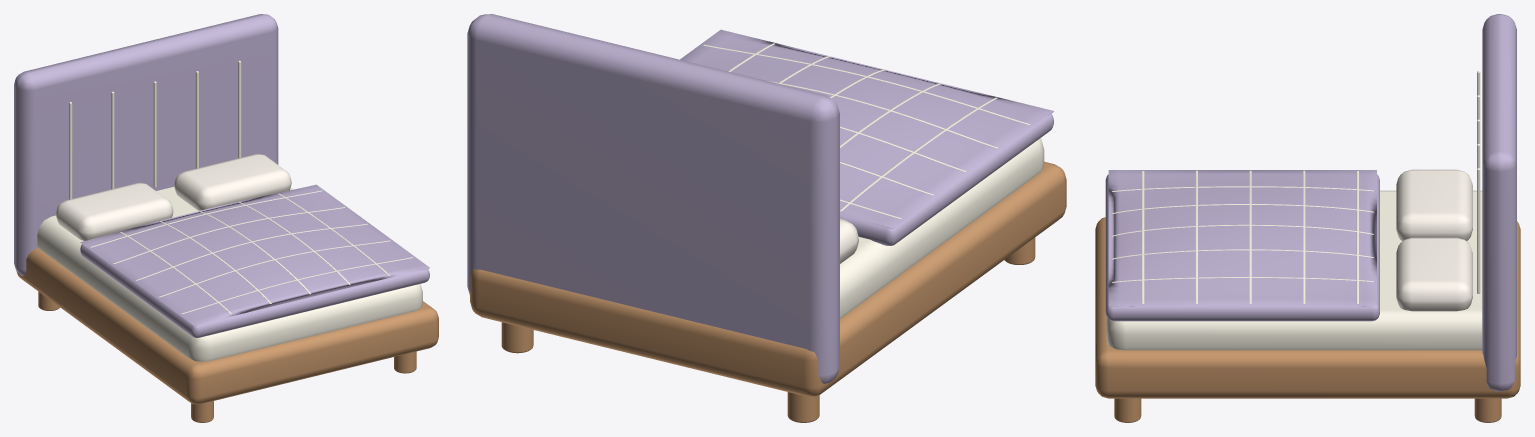
The model's file is bedroomBedLilac.glb.
The picture shows the model from 3 angles, left to right: view 1: azimuth 30°, elevation 25°; view 2: azimuth 150°, elevation 25°; view 3: azimuth 270°, elevation 25°; orthographic projection. The views are drawn at different scales.
Visible parts, largest first — view 1: Upholstered headboard, Soft quilt cloth, Oak bed frame, Mattress, Quilt padded hem, Bed pillow, Bed pillow.001, Oak bed leg, Oak bed leg.002, Headboard channel.002; view 2: Upholstered headboard, Oak bed frame, Soft quilt cloth, Mattress, Quilt padded hem, Oak bed leg.001, Oak bed leg.003, Quilt stitching.005, Bed pillow; view 3: Soft quilt cloth, Oak bed frame, Mattress, Upholstered headboard, Bed pillow.001, Quilt padded hem, Bed pillow, Oak bed leg.002, Oak bed leg.003, Headboard channel.004, Quilt stitching.003, Quilt stitching (+5 smaller).
Boxes of the visible parts, x1=… form: Upholstered headboard: x1=14, y1=14, x2=278, y2=275; Soft quilt cloth: x1=80, y1=184, x2=429, y2=325; Oak bed frame: x1=16, y1=248, x2=438, y2=404; Mattress: x1=37, y1=187, x2=422, y2=361; Quilt padded hem: x1=80, y1=244, x2=429, y2=337; Bed pillow: x1=56, y1=183, x2=173, y2=240; Bed pillow.001: x1=174, y1=154, x2=291, y2=210; Oak bed leg: x1=191, y1=401, x2=213, y2=422; Oak bed leg.002: x1=394, y1=351, x2=416, y2=373; Headboard channel.002: x1=153, y1=81, x2=156, y2=187; Upholstered headboard: x1=467, y1=14, x2=839, y2=383; Oak bed frame: x1=470, y1=161, x2=1066, y2=396; Soft quilt cloth: x1=680, y1=29, x2=1053, y2=228; Mattress: x1=840, y1=138, x2=1044, y2=318; Quilt padded hem: x1=840, y1=114, x2=1053, y2=245; Oak bed leg.001: x1=787, y1=392, x2=819, y2=422; Oak bed leg.003: x1=501, y1=322, x2=533, y2=353; Quilt stitching.005: x1=703, y1=44, x2=1030, y2=124; Bed pillow: x1=840, y1=219, x2=858, y2=263; Soft quilt cloth: x1=1108, y1=170, x2=1376, y2=306; Oak bed frame: x1=1095, y1=217, x2=1520, y2=398; Mattress: x1=1106, y1=190, x2=1482, y2=350; Upholstered headboard: x1=1482, y1=14, x2=1516, y2=391; Bed pillow.001: x1=1396, y1=237, x2=1472, y2=311; Quilt padded hem: x1=1105, y1=174, x2=1379, y2=321; Bed pillow: x1=1396, y1=169, x2=1472, y2=240; Oak bed leg.002: x1=1114, y1=398, x2=1141, y2=422; Oak bed leg.003: x1=1474, y1=398, x2=1501, y2=422; Headboard channel.004: x1=1477, y1=168, x2=1480, y2=293; Quilt stitching.003: x1=1112, y1=249, x2=1373, y2=259; Quilt stitching: x1=1112, y1=186, x2=1373, y2=191.
Size of the model in its own units: 1.84 by 1.59 by 2.22.
